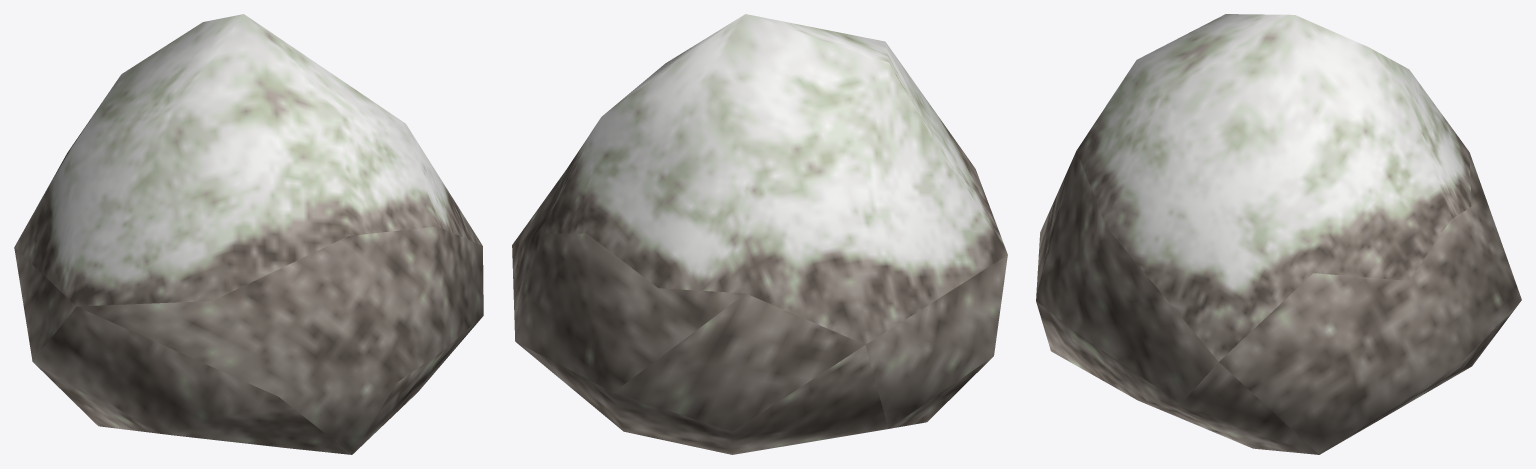
File: lbouldersno_0.dae
3 views of the same model, side by side, from view 1: azimuth 30°, elevation 25°; view 2: azimuth 150°, elevation 25°; view 3: azimuth 270°, elevation 25° (orthographic). The views are drawn at different scales.
Visible parts, largest first — view 1: lbouldersno_0; view 2: lbouldersno_0; view 3: lbouldersno_0.
Part boxes in pixels (<box>): lbouldersno_0: <box>14,14,483,454</box>; lbouldersno_0: <box>512,14,1007,454</box>; lbouldersno_0: <box>1036,14,1521,454</box>.
Bounding box in the file's own units: 2.39 × 2.35 × 2.03.
1 material, 1 textured.
